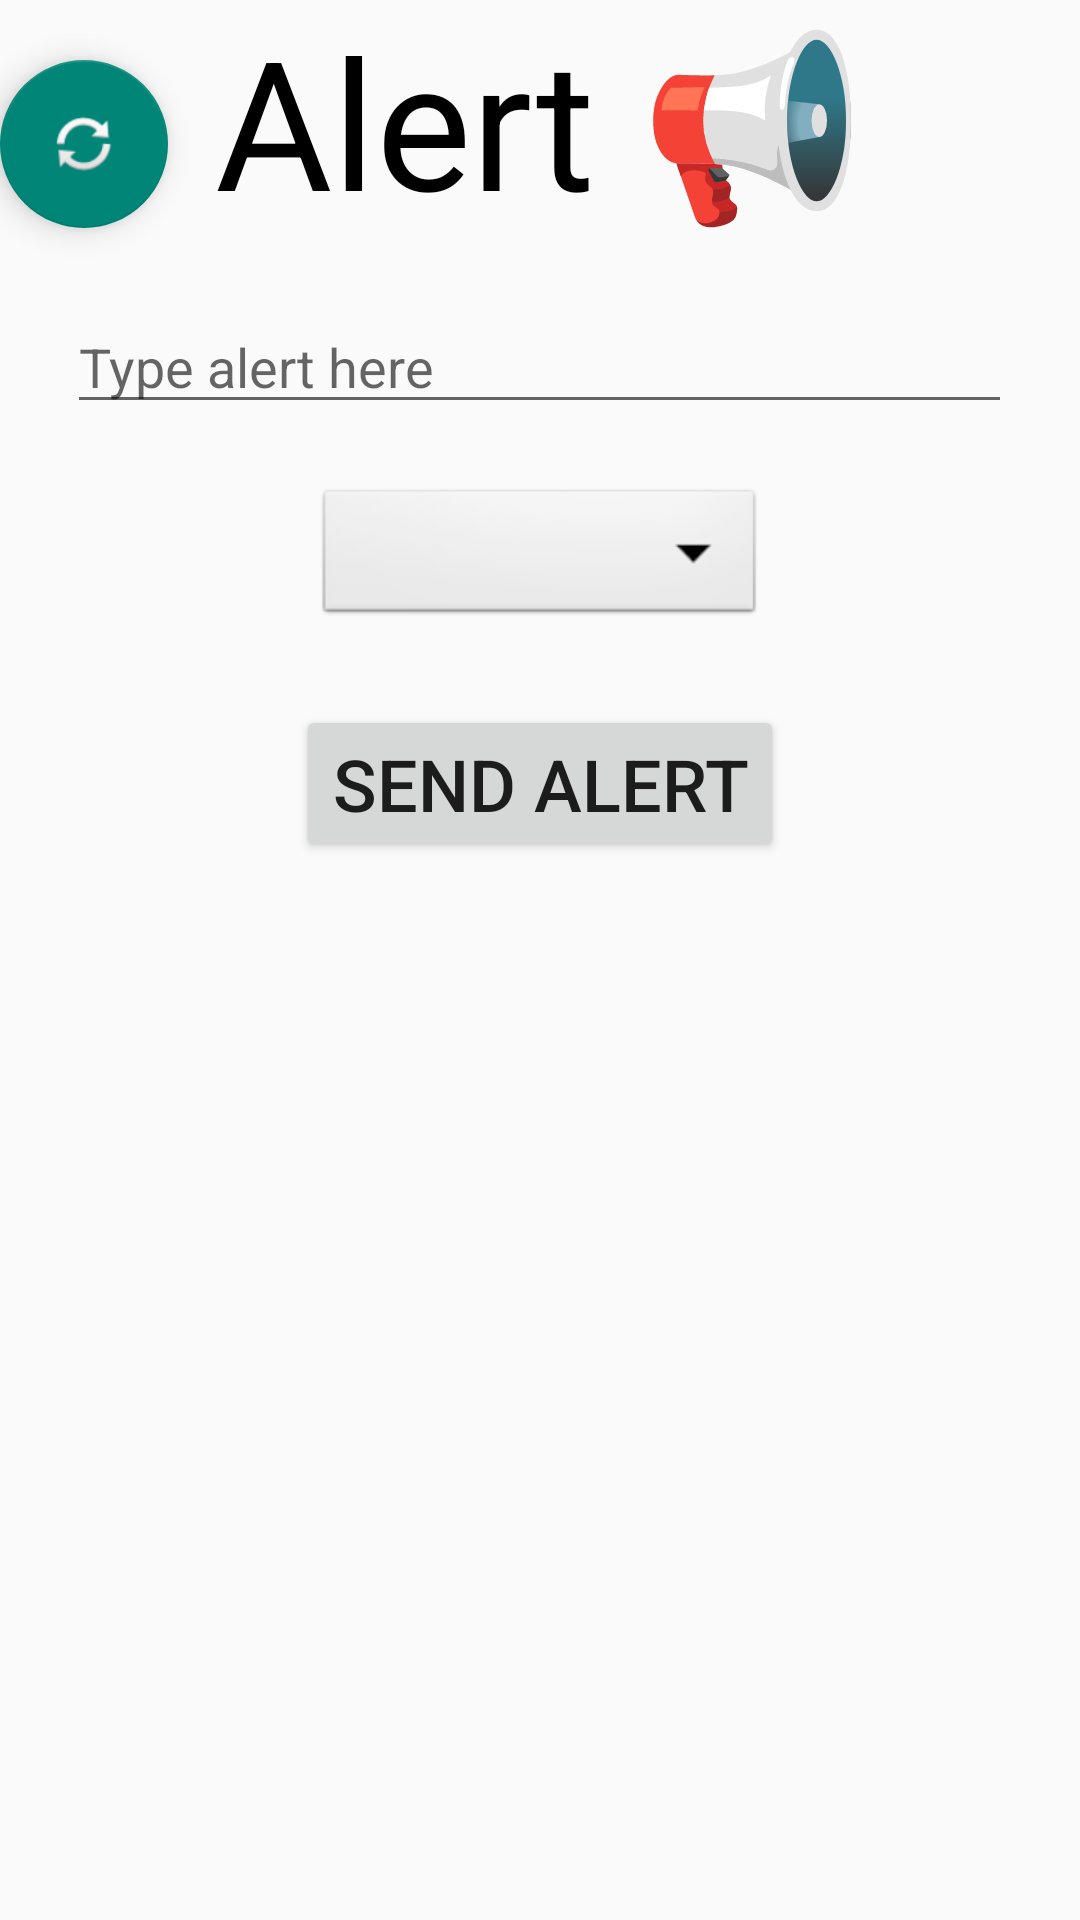

Screen size 1080*1920. Icon name, then its center in pixels as [x,y]:
popup sync: [84,144]
